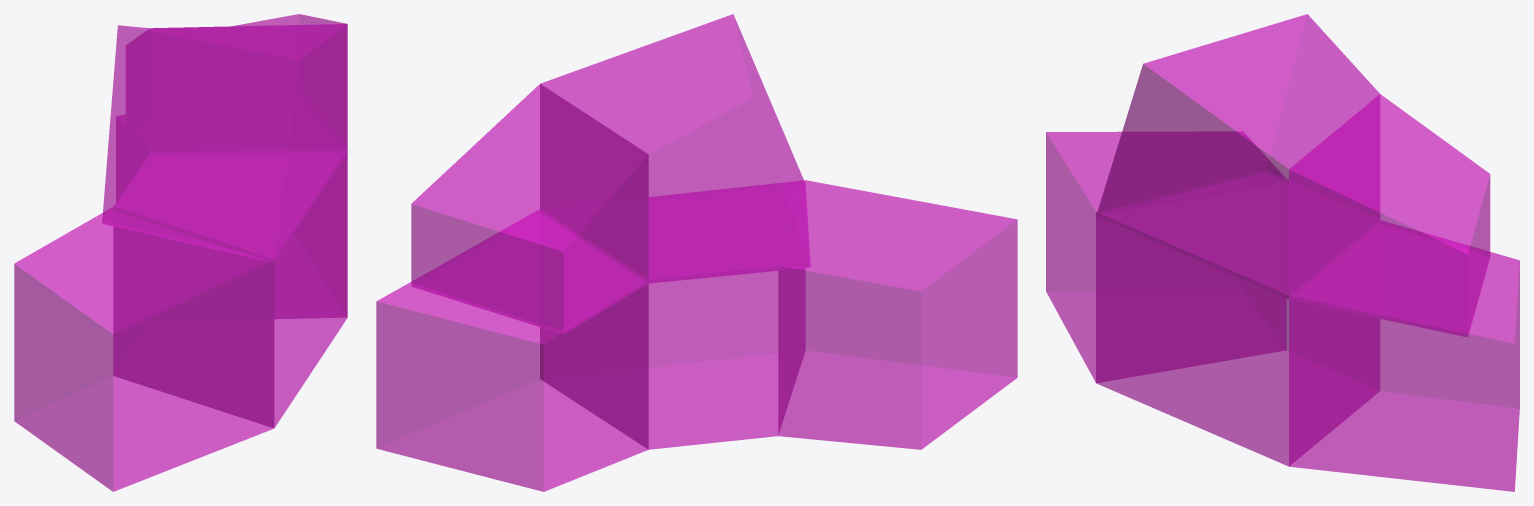
The model's file is SM_Bld_Wall_L_Curve_Half_Damaged_06_Collision.fbx.
3 views of the same model, side by side, from view 1: azimuth 30°, elevation 25°; view 2: azimuth 150°, elevation 25°; view 3: azimuth 270°, elevation 25° (orthographic).
Visible parts, largest first — view 1: SM_Bld_Wall_L_Curve_Half_Damaged_06_Collision; view 2: SM_Bld_Wall_L_Curve_Half_Damaged_06_Collision; view 3: SM_Bld_Wall_L_Curve_Half_Damaged_06_Collision.
Boxes of the visible parts, x1,y1,x2,y2 form: SM_Bld_Wall_L_Curve_Half_Damaged_06_Collision: (14,14,347,491); SM_Bld_Wall_L_Curve_Half_Damaged_06_Collision: (376,14,1017,491); SM_Bld_Wall_L_Curve_Half_Damaged_06_Collision: (1046,14,1519,491).
Bounding box in the file's own units: 389 × 309 × 387.
